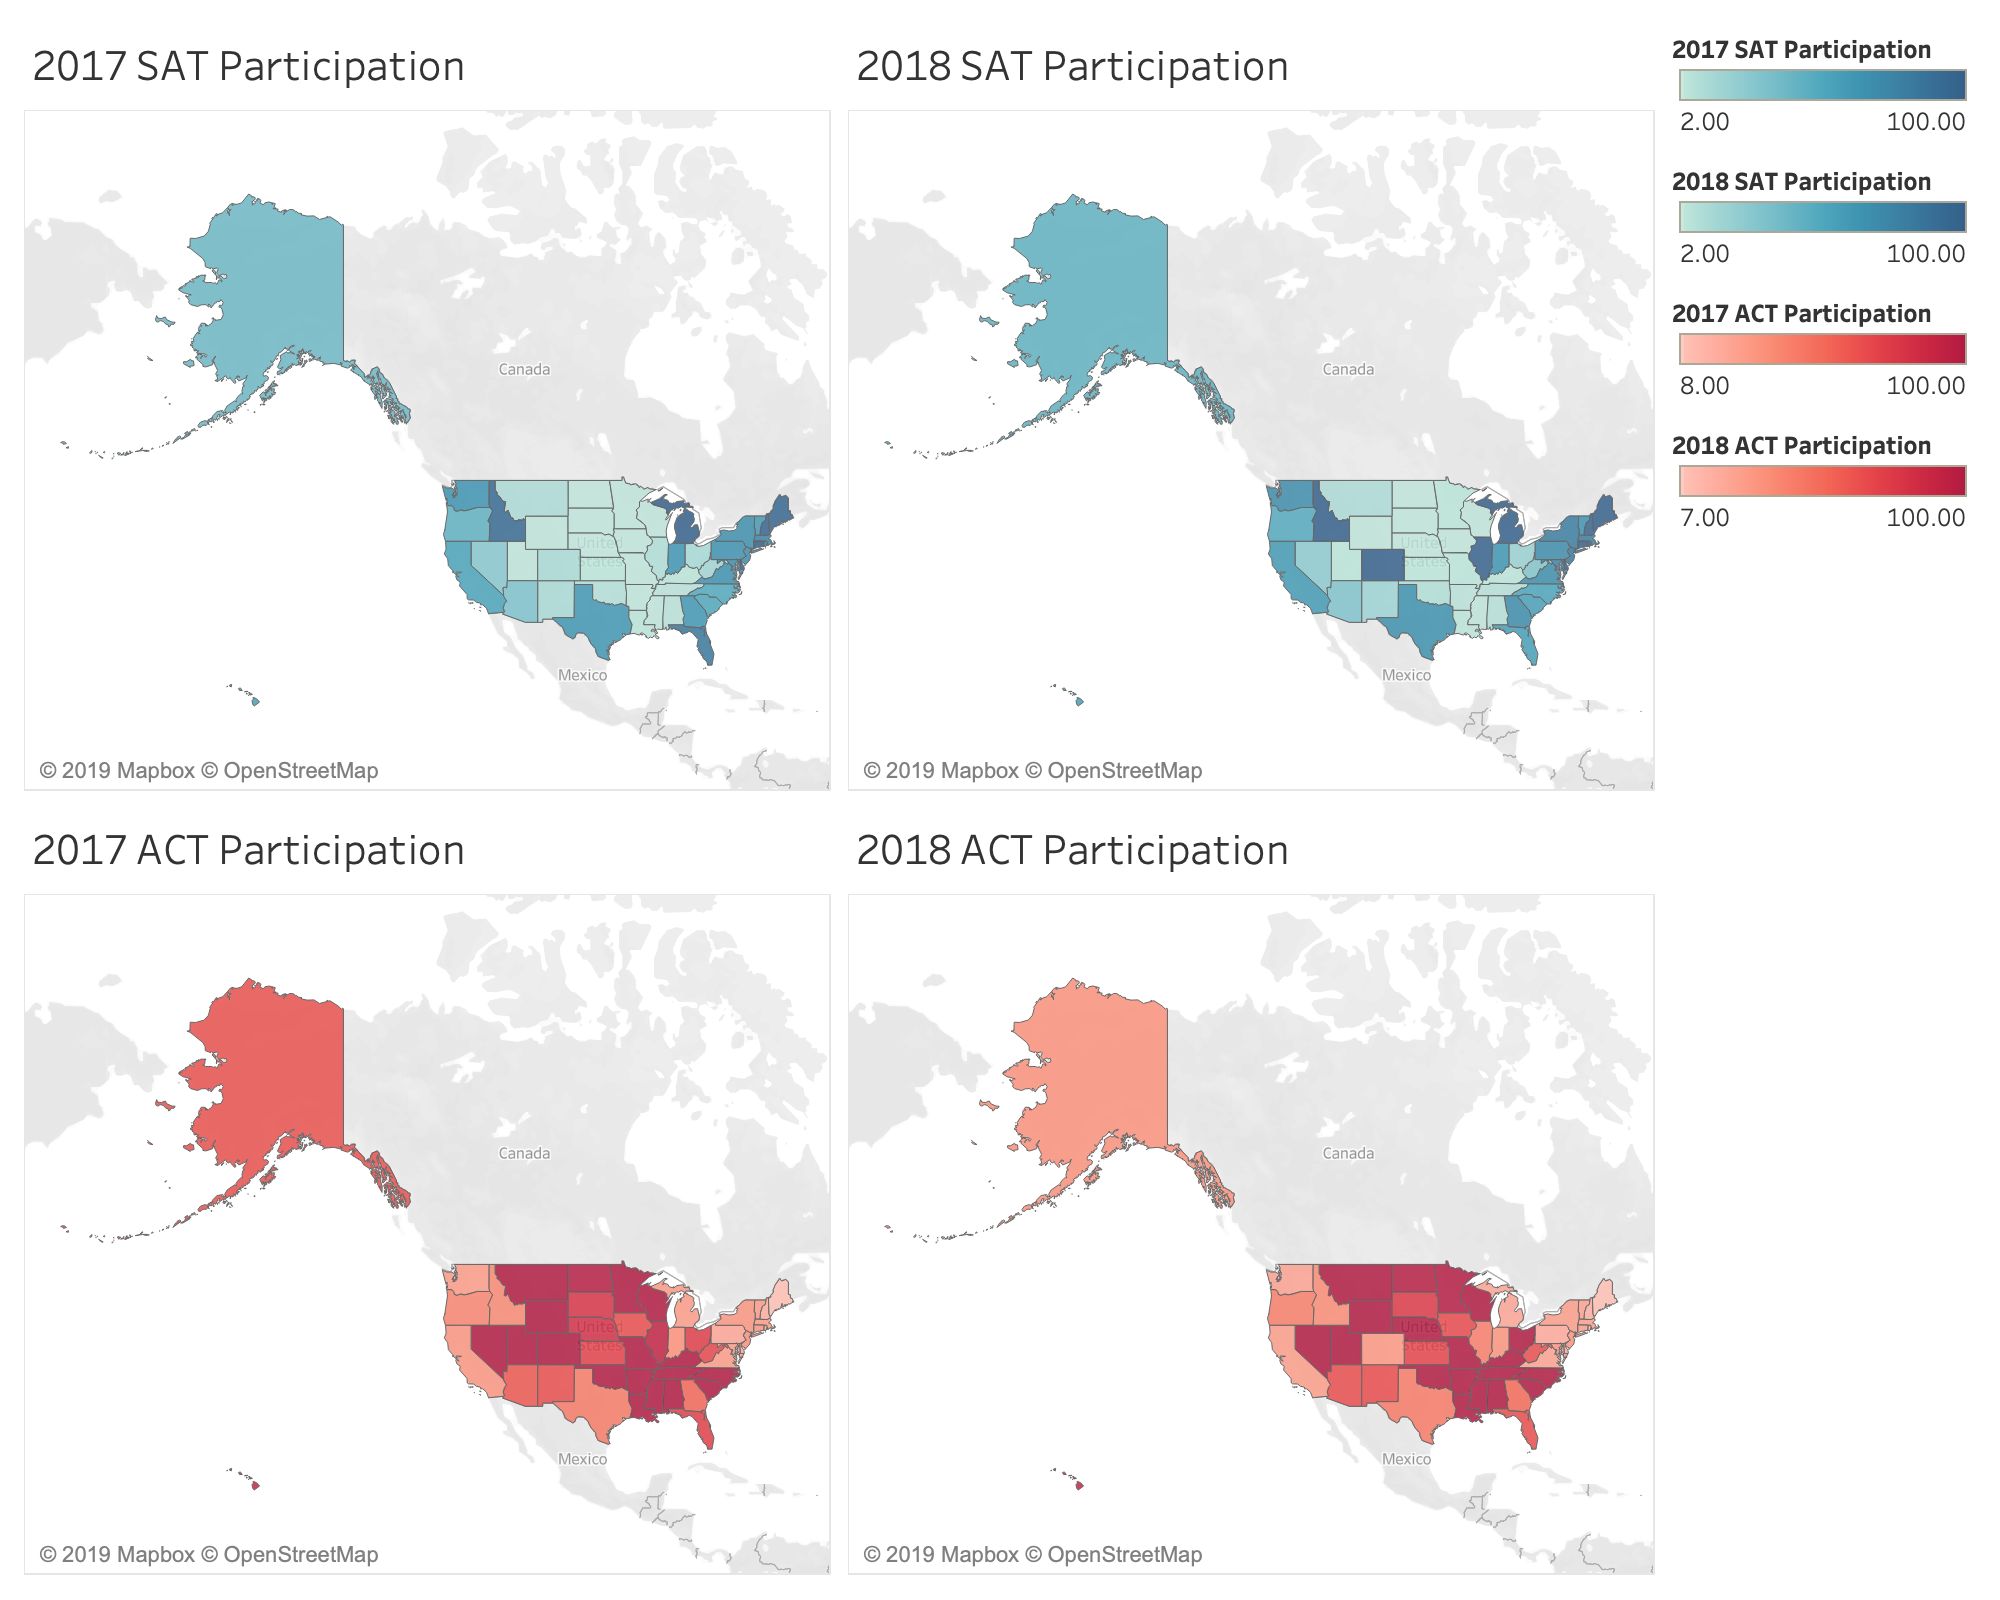

The dashboard page shown, as its layout file describes it:
{"tool":"tableau","page":{"name":"ACT SAT Participation 17-18","canvas":[1000,800],"ordinal":0},"visuals":[{"type":"worksheet","title":"2017 SAT","mark":"Automatic","box":[8,8,412,392]},{"type":"worksheet","title":"2018 SAT","mark":"Automatic","box":[420,8,412,392]},{"type":"legend","title":"2017 SAT","param":"[federated.1d2s1vw1xznzpn19oecfz0ajiksc].[sum:sat_participation_17:qk]","box":[832,8,160,65]},{"type":"legend","title":"2018 SAT","param":"[federated.1d2s1vw1xznzpn19oecfz0ajiksc].[sum:sat_participation_18:qk]","box":[832,73,160,65]},{"type":"legend","title":"2017 ACT","param":"[federated.1d2s1vw1xznzpn19oecfz0ajiksc].[sum:act_participation_17:qk]","box":[832,138,160,65]},{"type":"legend","title":"2018 ACT","param":"[federated.1d2s1vw1xznzpn19oecfz0ajiksc].[sum:act_participation_18:qk]","box":[832,203,160,65]},{"type":"worksheet","title":"2017 ACT","mark":"Automatic","box":[8,400,412,392]},{"type":"worksheet","title":"2018 ACT","mark":"Automatic","box":[420,400,412,392]}]}

Visuals, with their boxes in screenshot pixels (x1, y1, x2, y2), scaled from the page's 1000x800 canvas onto the 2000x1600 screenshot:
"2017 SAT" worksheet: [16, 16, 840, 800]
"2018 SAT" worksheet: [840, 16, 1664, 800]
"2017 SAT" legend: [1664, 16, 1984, 146]
"2018 SAT" legend: [1664, 146, 1984, 276]
"2017 ACT" legend: [1664, 276, 1984, 406]
"2018 ACT" legend: [1664, 406, 1984, 536]
"2017 ACT" worksheet: [16, 800, 840, 1584]
"2018 ACT" worksheet: [840, 800, 1664, 1584]
